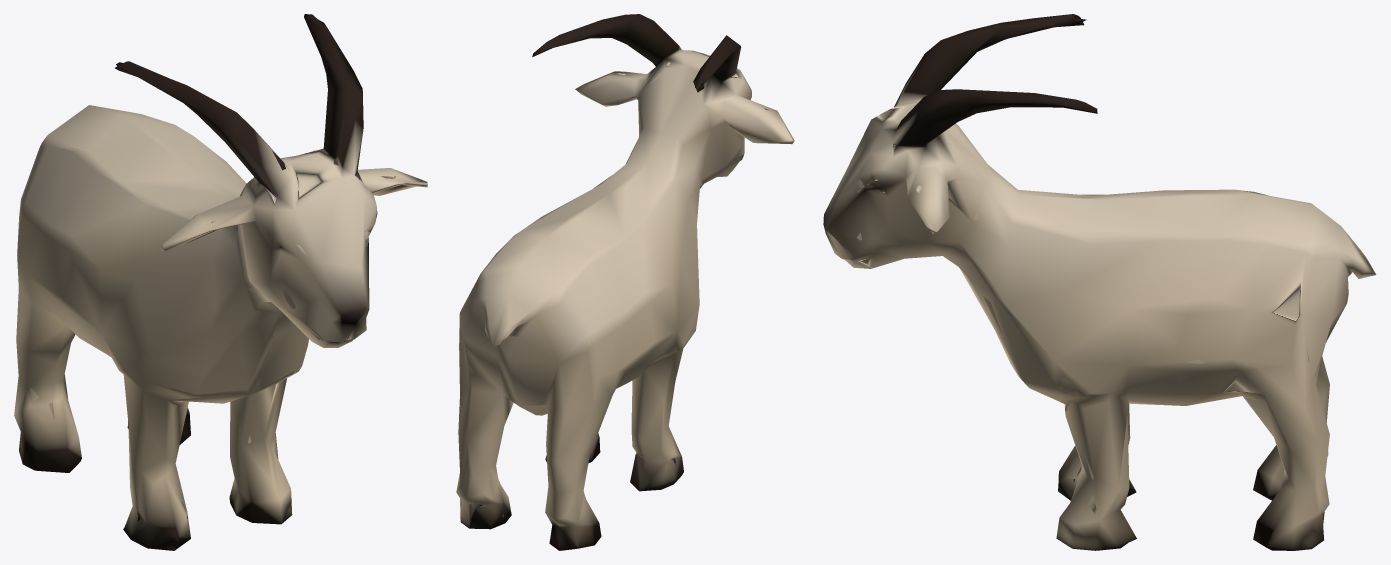
Rendered from gen3d-goat-lod1.glb.
The picture shows the model from 3 angles, left to right: view 1: azimuth 30°, elevation 25°; view 2: azimuth 150°, elevation 25°; view 3: azimuth 270°, elevation 25°; orthographic projection. The views are drawn at different scales.
Parts seen in each view (by area): view 1: part_0; view 2: part_0; view 3: part_0.
Part boxes in pixels (bbox=[...]): part_0: bbox=[14, 14, 427, 550]; part_0: bbox=[456, 14, 794, 550]; part_0: bbox=[823, 14, 1376, 550].
Size of the model in its own units: 0.5639 by 0.9992 by 1.09.
